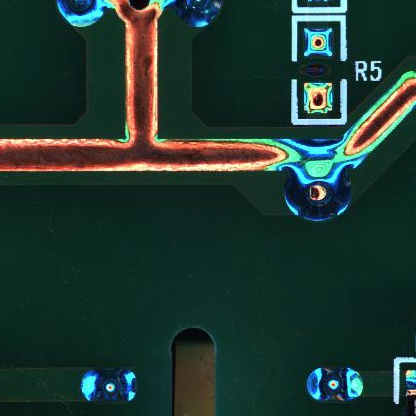spot: (283, 155, 351, 220), (305, 365, 364, 402), (78, 367, 140, 402)
